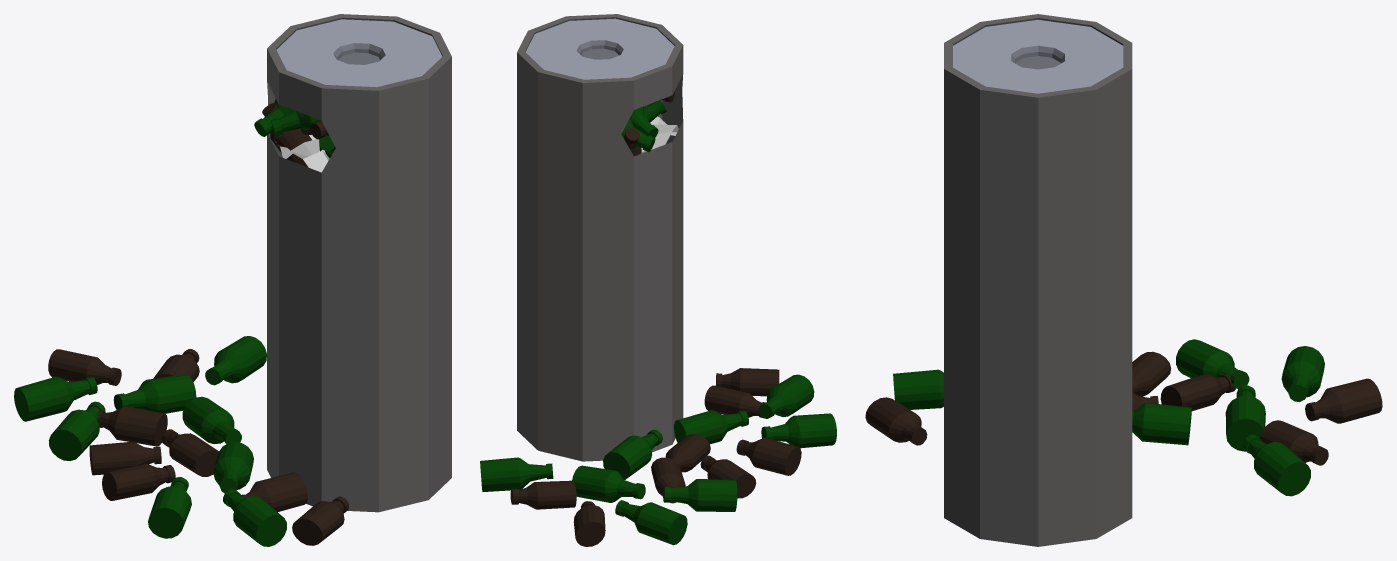
Rendered from model_kosz_popielnik_pelny.fbx.
The picture shows the model from 3 angles, left to right: view 1: azimuth 30°, elevation 25°; view 2: azimuth 150°, elevation 25°; view 3: azimuth 270°, elevation 25°; orthographic projection. The views are drawn at different scales.
Visible parts, largest first — view 1: kosz_pelny; view 2: kosz_pelny; view 3: kosz_pelny.
Boxes of the visible parts, bbox=[...] form: kosz_pelny: bbox=[14, 14, 451, 546]; kosz_pelny: bbox=[480, 14, 836, 546]; kosz_pelny: bbox=[865, 14, 1382, 546].
Size of the model in its own units: 110 by 106 by 83.66.
